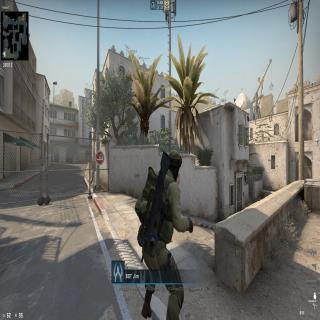CT-Head: (165, 147, 183, 185)
